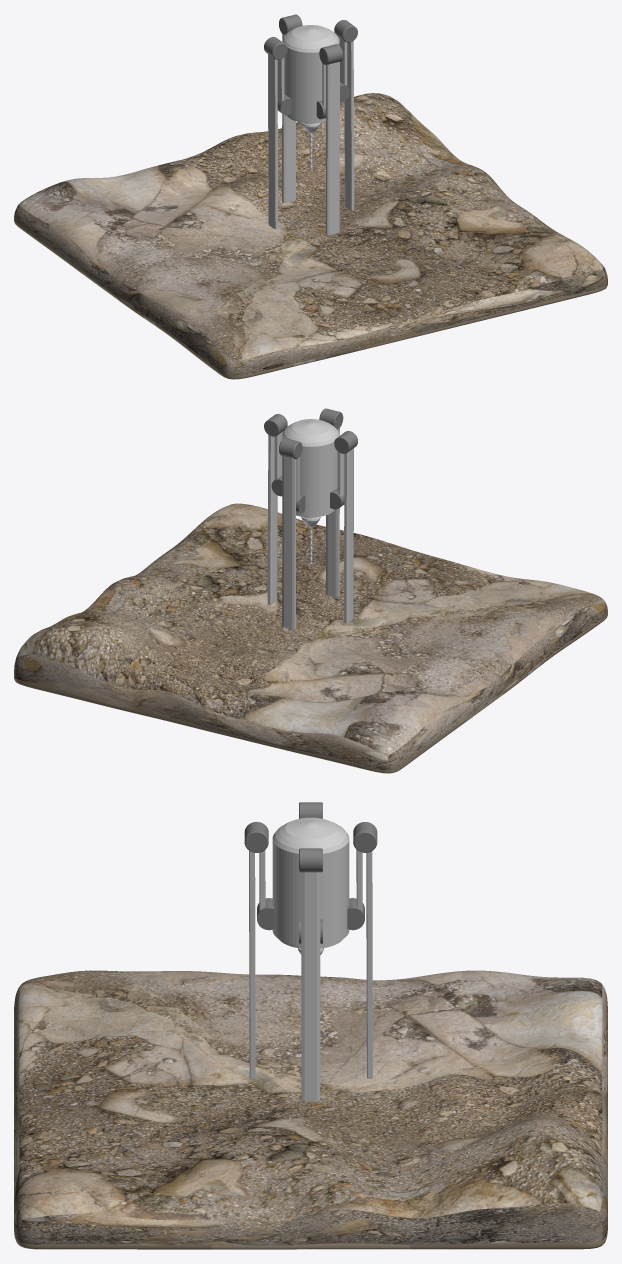
The model's file is drillAnimated.gltf.
The picture shows the model from 3 angles, top to bottom: view 1: azimuth 30°, elevation 25°; view 2: azimuth 150°, elevation 25°; view 3: azimuth 270°, elevation 25°; orthographic projection. The views are drawn at different scales.
Visible parts, largest first — view 1: Plane, Cylinder.001, Cube.007, Cube.003, Cube.001, Cube.005; view 2: Plane, Cylinder.001, Cube.005, Cube.003, Cube.001, Cube.007; view 3: Plane, Cylinder.001, Cube.001, Cube.007, Cube.005, Cylinder.011, Cylinder.008, Cylinder.007.
Boxes of the visible parts, bbox=[...] form: Plane: bbox=[14, 93, 607, 379]; Cylinder.001: bbox=[282, 25, 339, 121]; Cube.007: bbox=[326, 62, 339, 235]; Cube.003: bbox=[268, 54, 277, 229]; Cube.001: bbox=[344, 41, 354, 210]; Cube.005: bbox=[282, 34, 295, 203]; Plane: bbox=[14, 503, 607, 773]; Cylinder.001: bbox=[282, 419, 339, 515]; Cube.005: bbox=[282, 456, 295, 629]; Cube.003: bbox=[344, 448, 353, 623]; Cube.001: bbox=[267, 435, 277, 604]; Cube.007: bbox=[326, 428, 339, 597]; Plane: bbox=[14, 970, 607, 1249]; Cylinder.001: bbox=[272, 817, 349, 945]; Cube.001: bbox=[301, 872, 320, 1101]; Cube.007: bbox=[249, 851, 255, 1078]; Cube.005: bbox=[366, 851, 372, 1078]; Cylinder.011: bbox=[244, 821, 268, 852]; Cylinder.008: bbox=[353, 822, 377, 852]; Cylinder.007: bbox=[299, 848, 322, 872].
Size of the model in its own units: 32.67 by 18.3 by 32.67.
